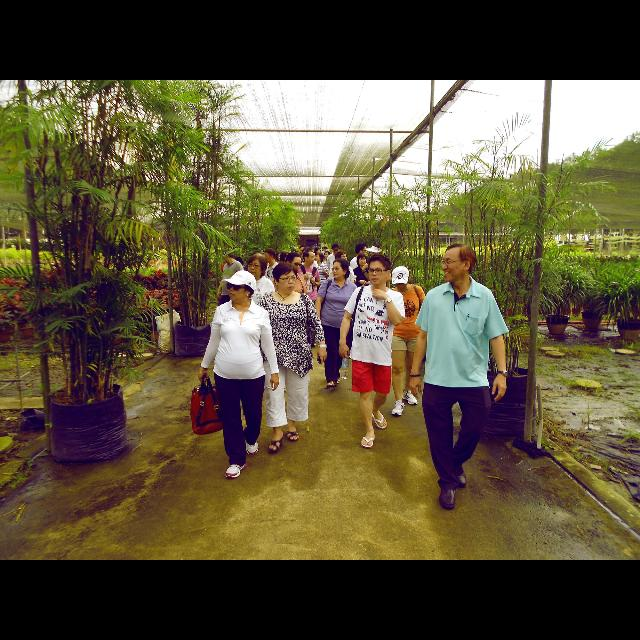head: (442, 244, 478, 282), (272, 262, 298, 294), (226, 274, 254, 302), (368, 254, 392, 286), (247, 254, 267, 278), (392, 268, 410, 292), (284, 252, 302, 274), (332, 259, 350, 279), (302, 250, 316, 264), (334, 250, 348, 264), (222, 249, 234, 263), (264, 249, 276, 263), (356, 244, 368, 256), (371, 246, 382, 258), (358, 254, 367, 266), (314, 252, 324, 262), (332, 244, 340, 254)
person: (406, 241, 512, 513), (187, 268, 281, 480), (246, 260, 330, 456), (337, 252, 408, 450), (380, 264, 430, 418), (313, 256, 361, 392), (270, 250, 312, 396), (238, 251, 280, 391), (361, 243, 394, 345), (215, 249, 248, 349), (294, 249, 322, 349), (327, 250, 357, 338), (258, 248, 284, 342), (351, 252, 377, 342), (348, 242, 374, 328), (308, 251, 332, 325), (324, 242, 348, 304)
